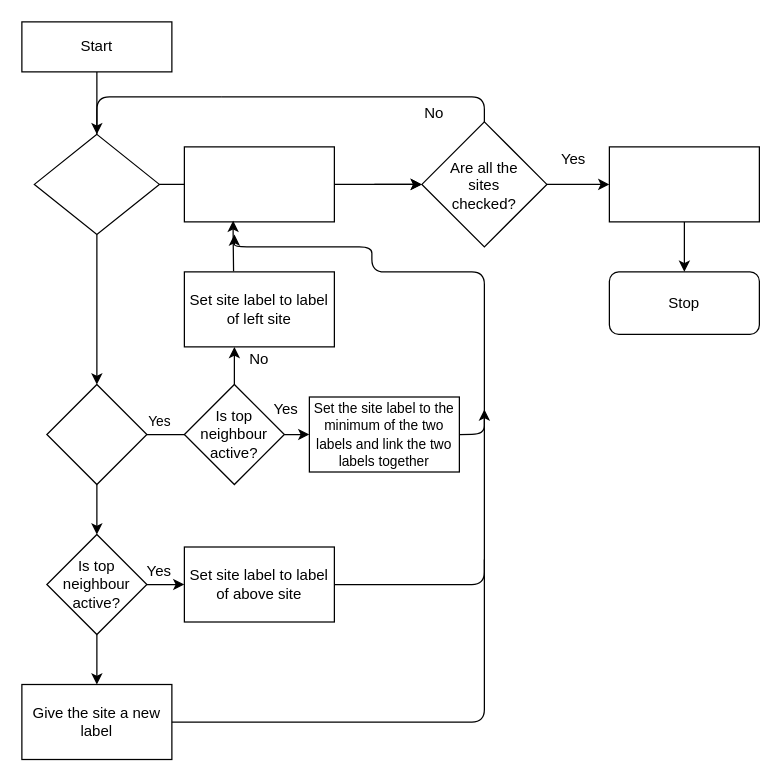
This 781x783 diagram has some shape labels left out. Each missing label, with the centre of its shape:
Is left neighbour active?: point 96,433
Is the site active?: point 96,183
Move to the next cell: point 258,184
Use the linked labels to correct the labels on the clusters: point 683,184
